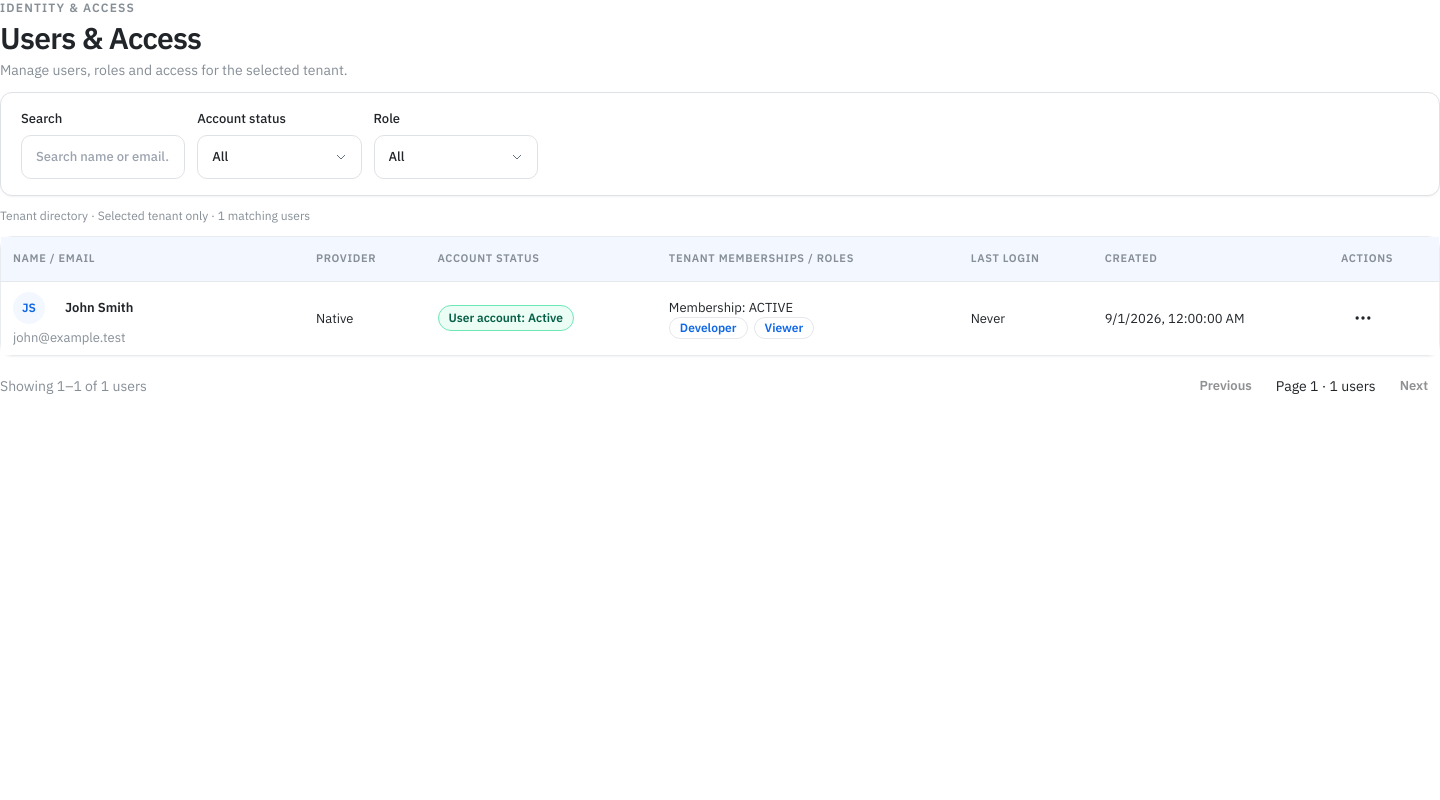
Test case: user lifecycle administration › renders only selected tenant data and omits global authority
Click the button "John Smith" at (99, 308), box [53,290,145,326]
(page scrolled)
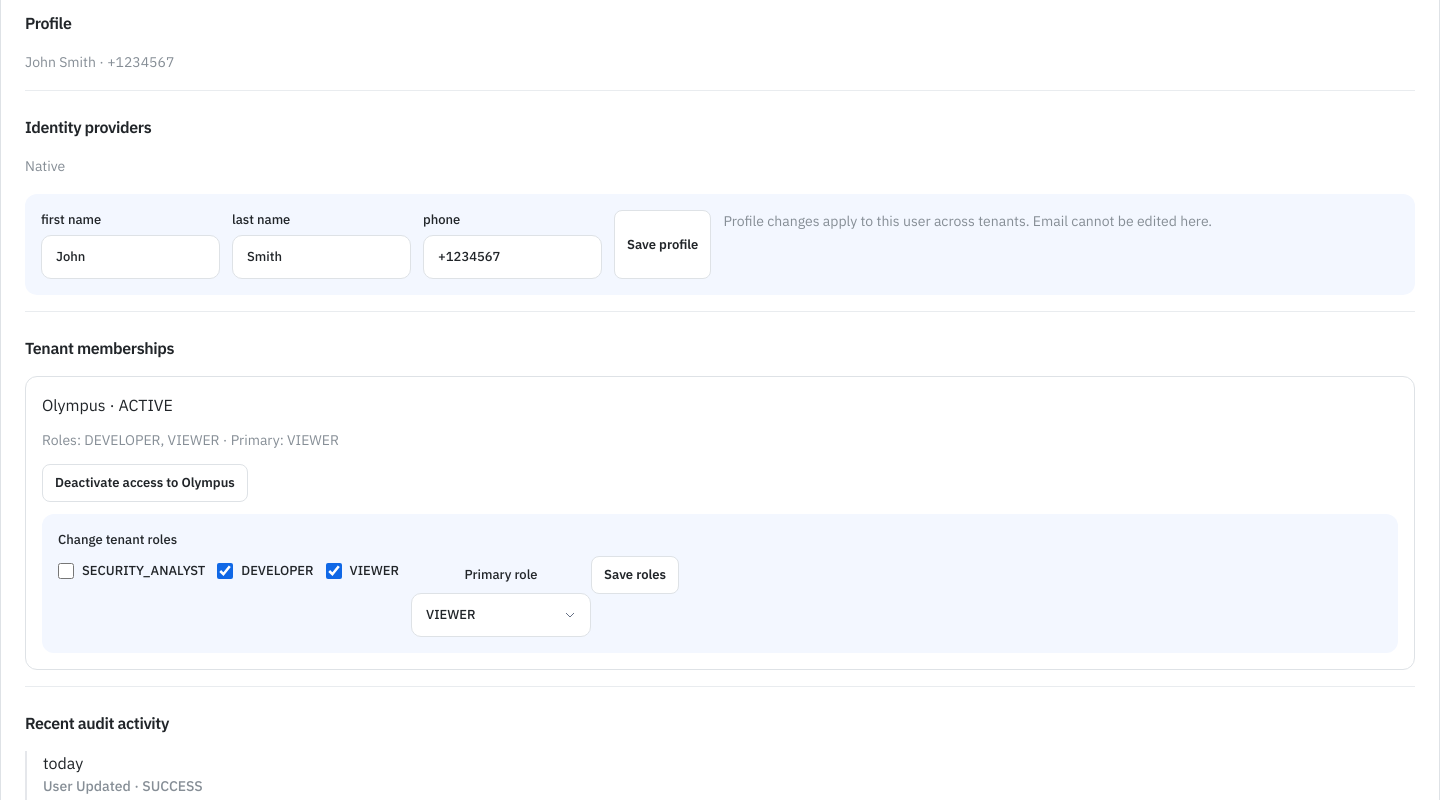
Now the heading "Olympus · ACTIVE" is shown, box [42,395,173,415]
